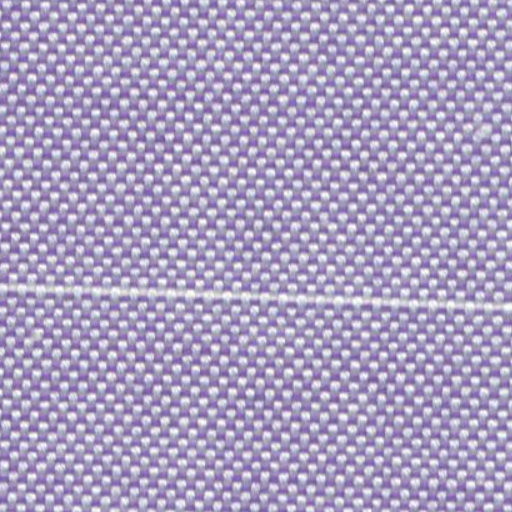TuoSha: (4, 259, 501, 346)
